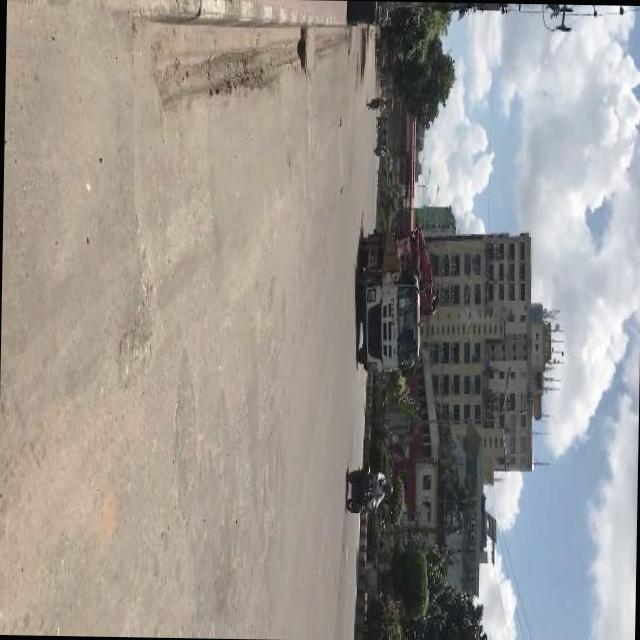motorcycle: (342, 464, 393, 519), (376, 170, 388, 188), (376, 116, 388, 134), (373, 144, 387, 158)
truck: (352, 218, 437, 379)
